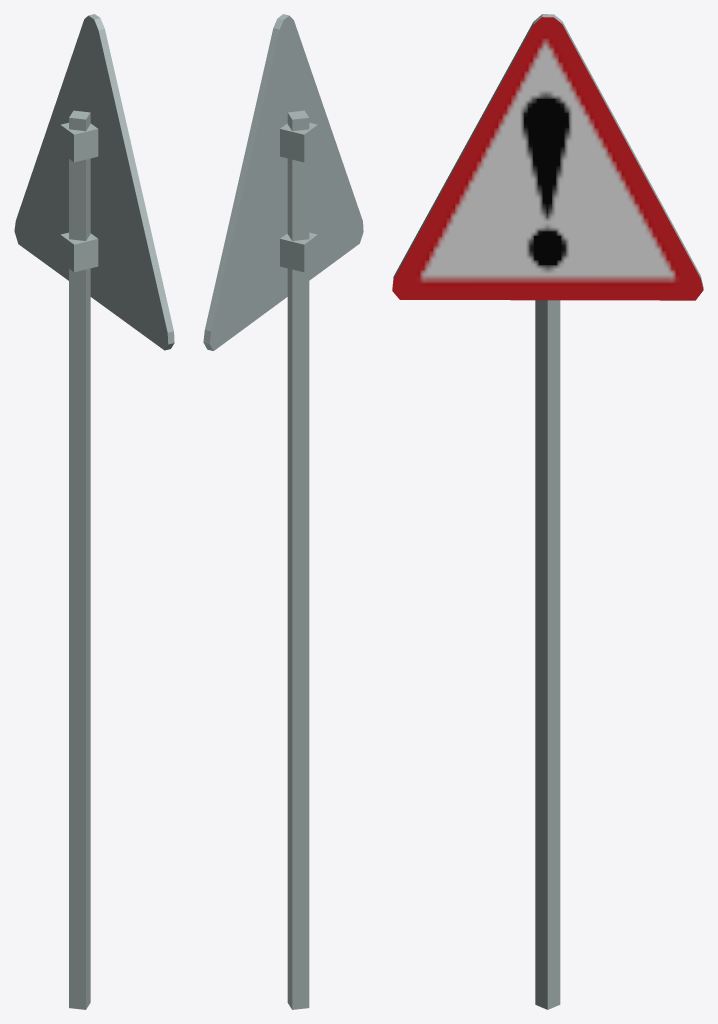
Rendered from traffic sign 4.fbx.
The picture shows the model from 3 angles, left to right: view 1: azimuth 30°, elevation 25°; view 2: azimuth 150°, elevation 25°; view 3: azimuth 270°, elevation 25°; orthographic projection.
Visible parts, largest first — view 1: sign cycle form; view 2: sign cycle form; view 3: sign cycle form.
Boxes of the visible parts, left/top/right/bottom form: sign cycle form: left=14, top=14, right=174, bottom=1009; sign cycle form: left=203, top=14, right=363, bottom=1009; sign cycle form: left=392, top=14, right=703, bottom=1009.
Bounding box in the file's own units: 6.47 × 199 × 56.42.
